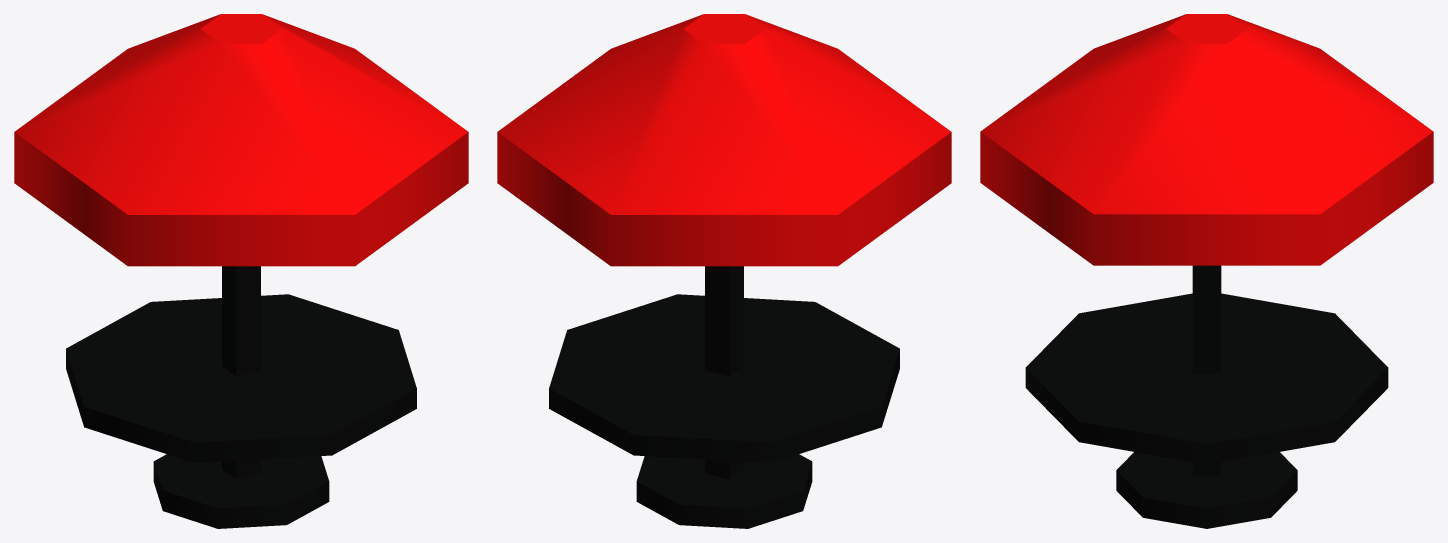
The model's file is detail-parasol-a.glb.
3 views of the same model, side by side, from view 1: azimuth 30°, elevation 25°; view 2: azimuth 150°, elevation 25°; view 3: azimuth 270°, elevation 25° (orthographic).
Parts seen in each view (by area): view 1: detail-parasol-a; view 2: detail-parasol-a; view 3: detail-parasol-a.
Part boxes in pixels (box(x1,y1,x2,y2)): detail-parasol-a: box(14, 14, 468, 528); detail-parasol-a: box(497, 14, 951, 528); detail-parasol-a: box(980, 14, 1433, 528).
Bounding box in the file's own units: 0.3465 × 0.45 × 0.4001.
Materials: 1 (1 with a texture image).
